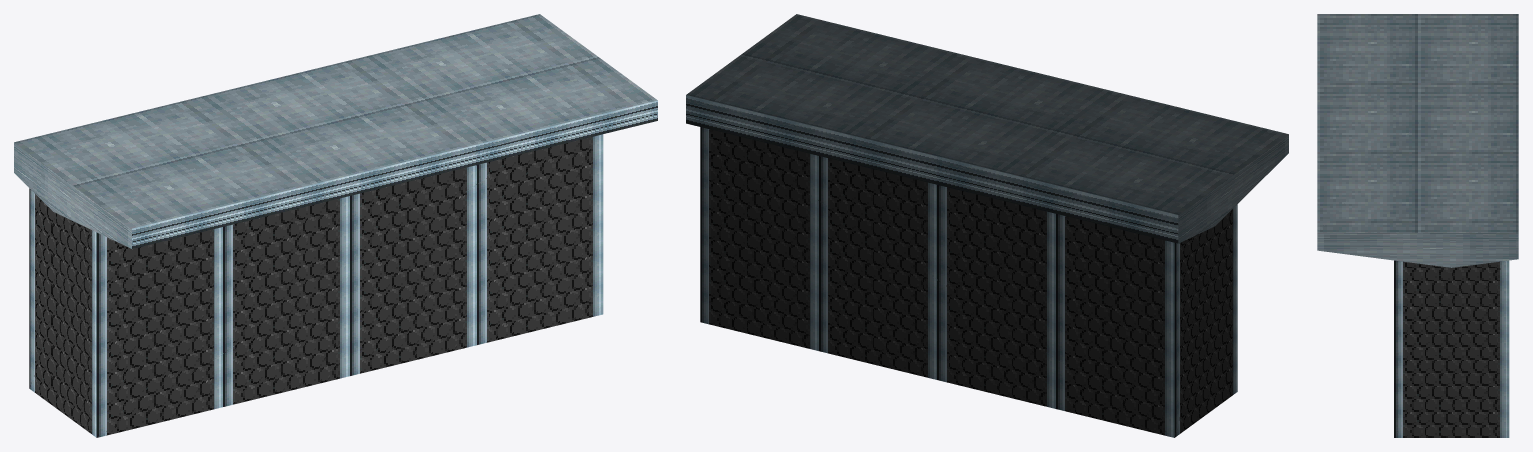
File: Pdesk_arecibo1Z.obj
3 renders of one model, left to right at view 1: azimuth 30°, elevation 25°; view 2: azimuth 150°, elevation 25°; view 3: azimuth 270°, elevation 25°, orthographic. The views are drawn at different scales.
Bounding box in the file's own units: 3150 × 1400 × 1225.
Materials: 3 (3 with a texture image).
